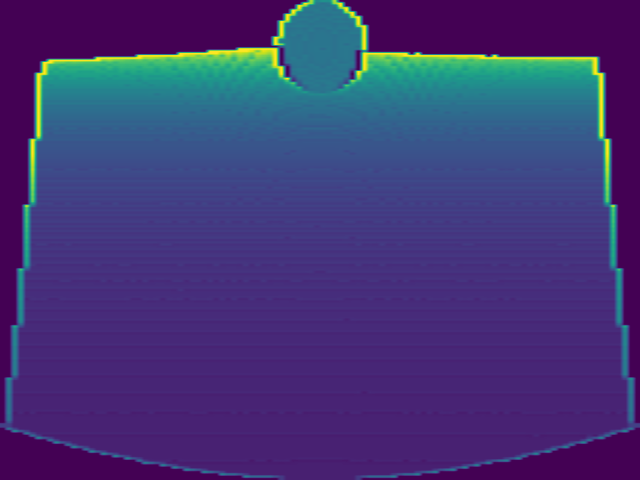sphere: (271, 1, 367, 94)
